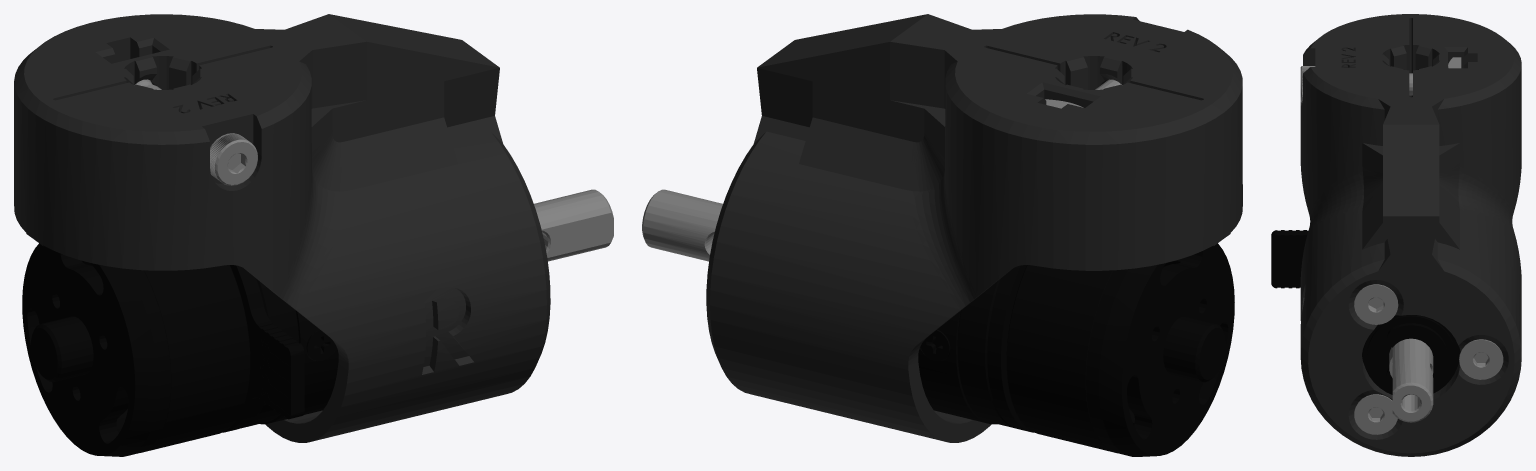
Rendered from Hip_R.obj.
3 views of the same model, side by side, from view 1: azimuth 30°, elevation 25°; view 2: azimuth 150°, elevation 25°; view 3: azimuth 270°, elevation 25° (orthographic). The views are drawn at different scales.
Parts seen in each view (by area): view 1: Hip_R; view 2: Hip_R; view 3: Hip_R.
Boxes of the visible parts, box(x1,y1,x2,y2) form: Hip_R: box(14, 14, 613, 456); Hip_R: box(642, 14, 1242, 456); Hip_R: box(1271, 14, 1521, 456).
Bounding box in the file's own units: 0.066 × 0.043 × 0.034.
1 material, 1 textured.
